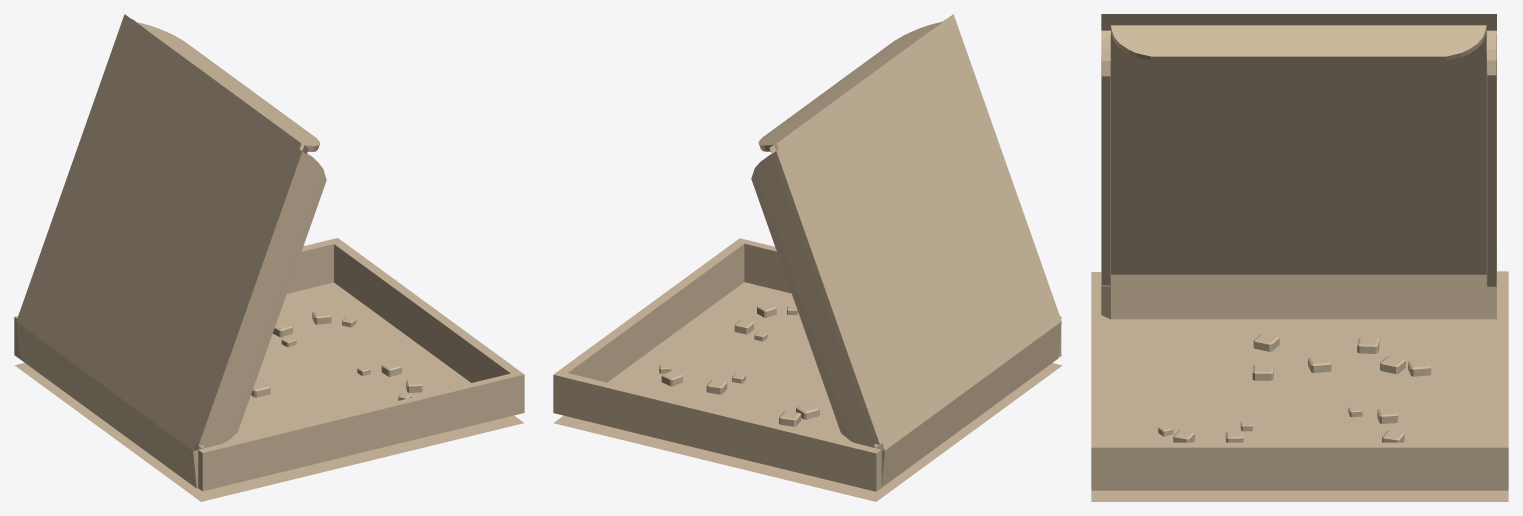
File: pizzabox_1_partyassets.fbx
3 views of the same model, side by side, from view 1: azimuth 30°, elevation 25°; view 2: azimuth 150°, elevation 25°; view 3: azimuth 270°, elevation 25° (orthographic). The views are drawn at different scales.
Parts seen in each view (by area): view 1: pizzabox_1_partyassets; view 2: pizzabox_1_partyassets; view 3: pizzabox_1_partyassets.
Boxes of the visible parts, box(x1,y1,x2,y2) form: pizzabox_1_partyassets: box(14, 14, 524, 501); pizzabox_1_partyassets: box(553, 14, 1062, 501); pizzabox_1_partyassets: box(1091, 14, 1508, 501).
Bounding box in the file's own units: 46.52 × 44.82 × 46.01.
